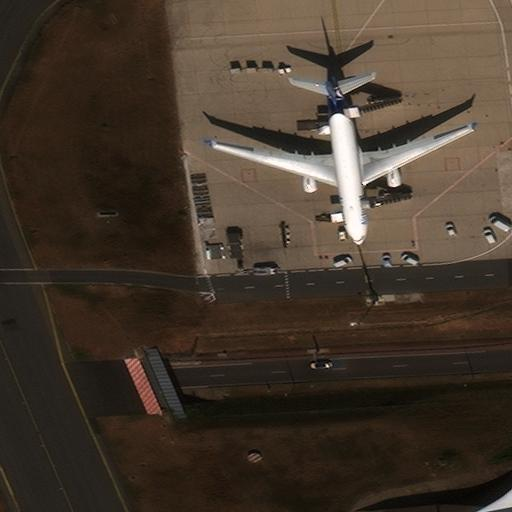Large Civil Transport: (211, 74, 475, 245)
